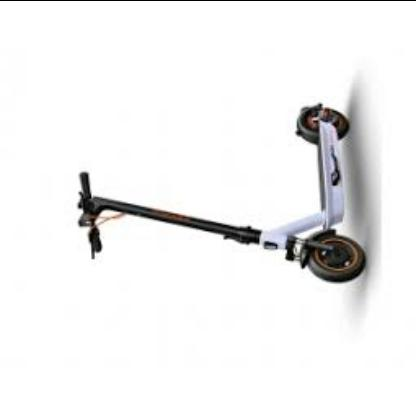bike: (76, 103, 367, 284)
